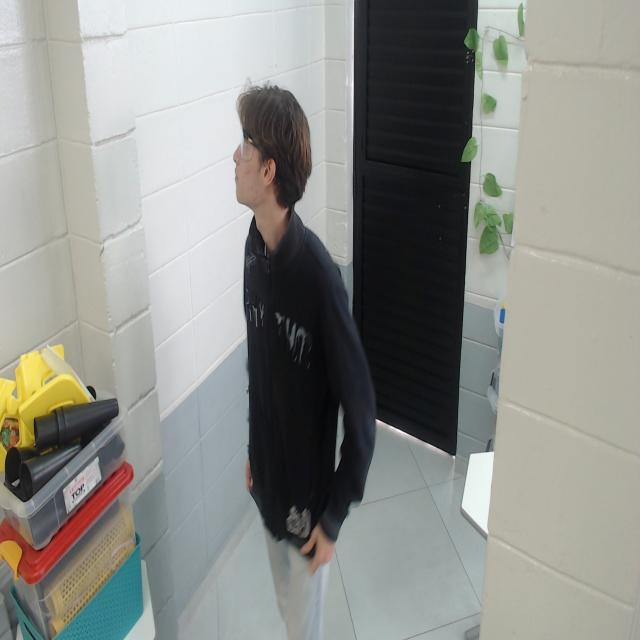oculos-epi: (240, 127, 260, 161)
